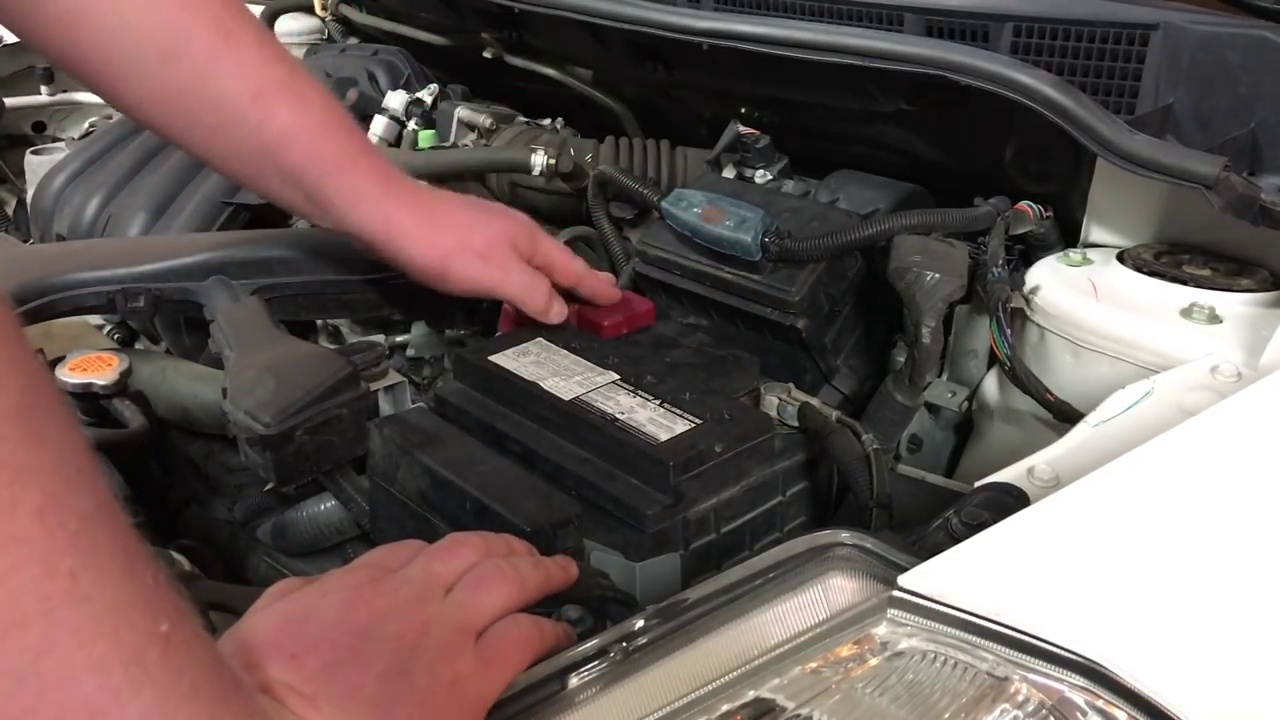battery: (453, 314, 843, 486)
neg_connected: (739, 346, 863, 443)
pos_touched: (452, 235, 648, 358)
